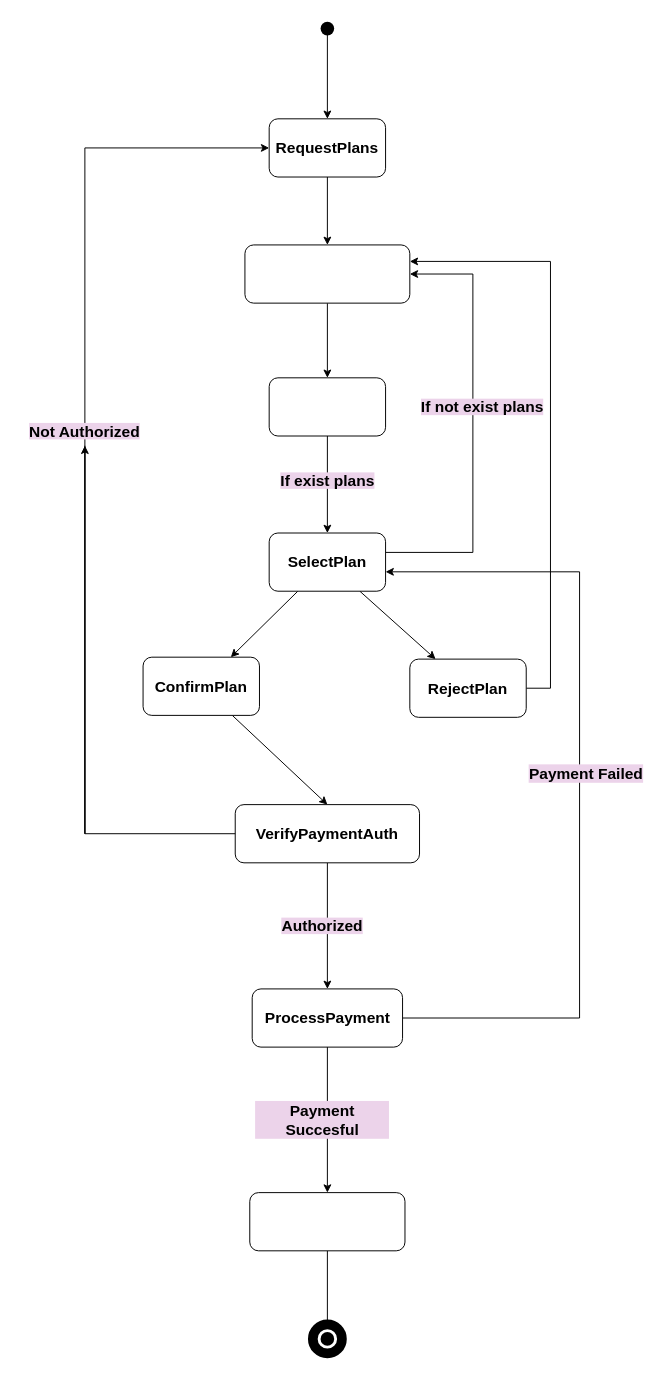
This 670x1375 diagram has some shape labels left out. The centre of each missing label's shape, as x and y in pixels:
"BorwsePlans" goes at (327,406).
"ConfirmBooking" goes at (327,1221).
"EnterRequirements" goes at (327,273).
